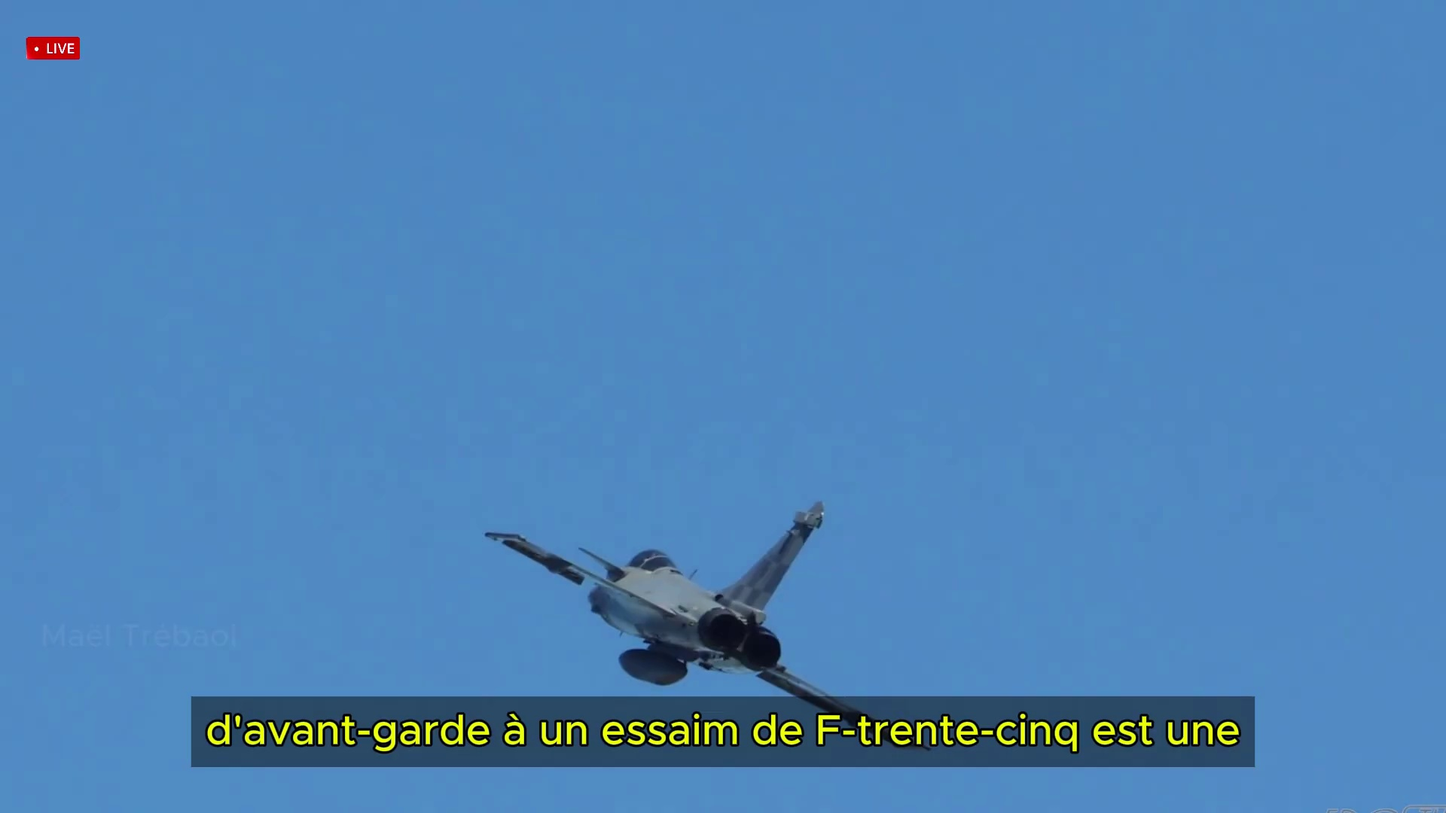Rafale: (489, 500, 849, 711)
